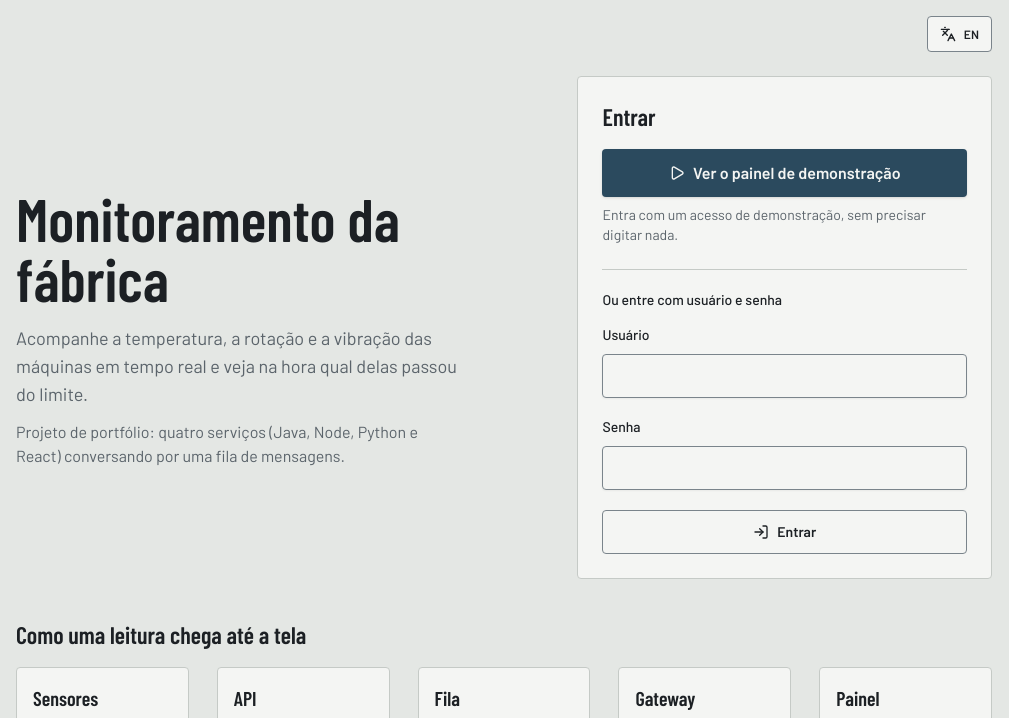
Test case: demonstração instantânea › se o login falhar, volta para a tela de entrada com o erro e deixa tentar de novo
Click the button "Ver o painel de demonstração": (785, 173) [602, 149, 967, 197]
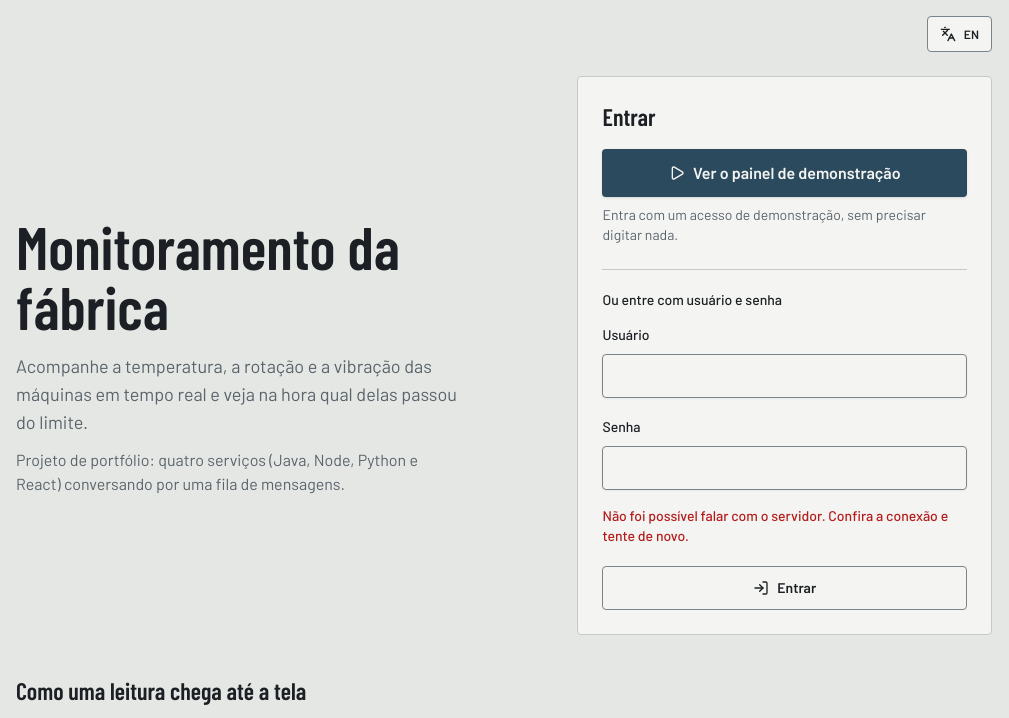
Result: the message shows "Não foi possível falar com o servidor" at [602, 507, 948, 544]
